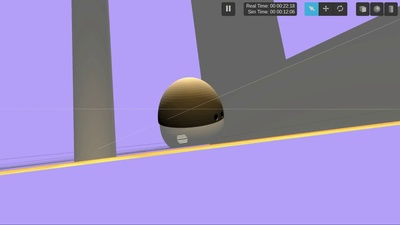mira_robot: (158, 77, 225, 148)
